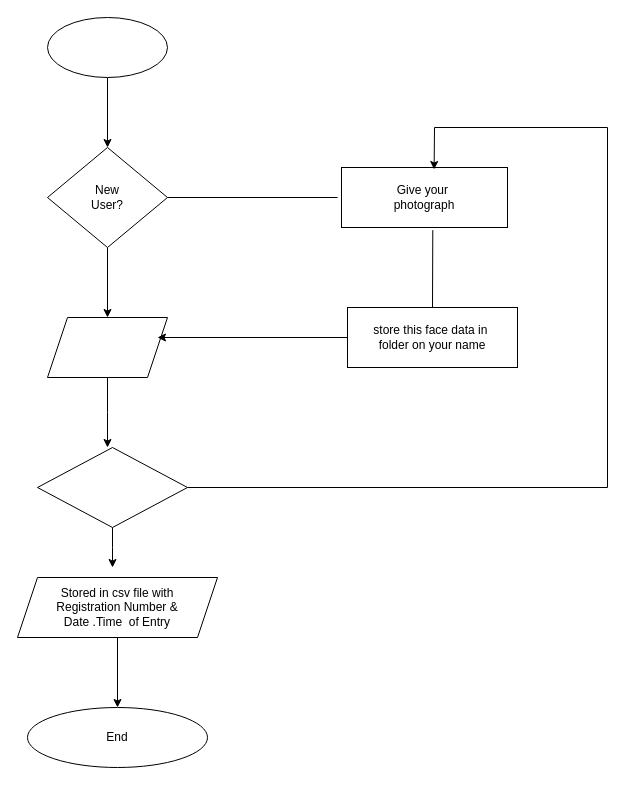
The diagram is 633 pixels wide and 785 high, and some of its shapes have lost their labels. Here are the shapes that lost their labels. From the top down, the centre of each, then its label:
the point at 107,47: Start
the point at 107,347: Recognize the face
the point at 112,487: Face Recognized
